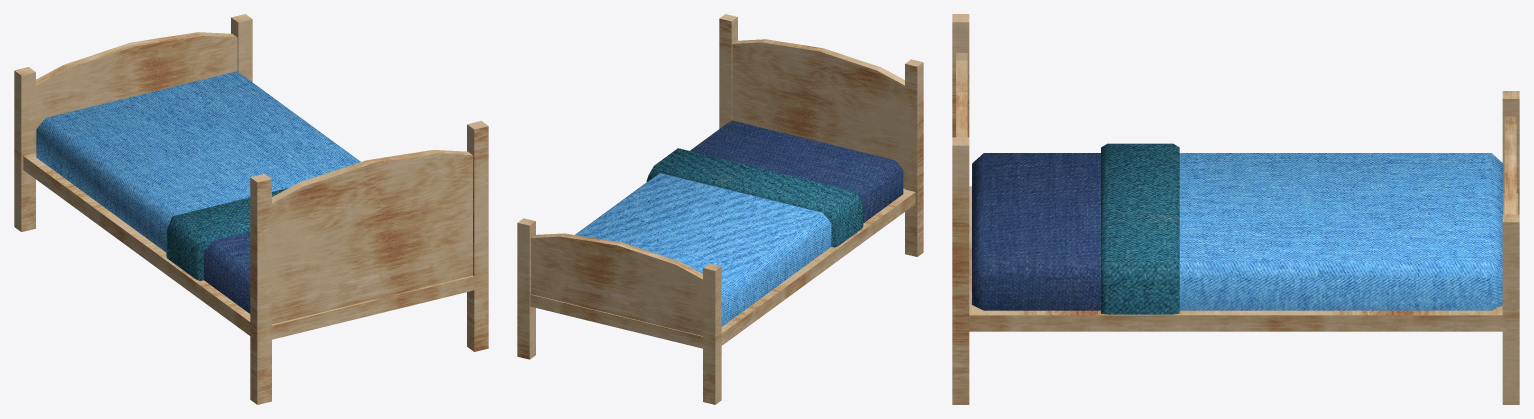
The model's file is Bed_03.glb.
3 views of the same model, side by side, from view 1: azimuth 30°, elevation 25°; view 2: azimuth 150°, elevation 25°; view 3: azimuth 270°, elevation 25° (orthographic). The views are drawn at different scales.
Parts seen in each view (by area): view 1: Bed_03; view 2: Bed_03; view 3: Bed_03.
Part boxes in pixels (x1,y1,x2,y2): Bed_03: [14, 14, 488, 404]; Bed_03: [517, 14, 923, 404]; Bed_03: [952, 14, 1519, 404].
Bounding box in the file's own units: 1.37 × 1.25 × 2.49.
4 materials, 4 textured.
